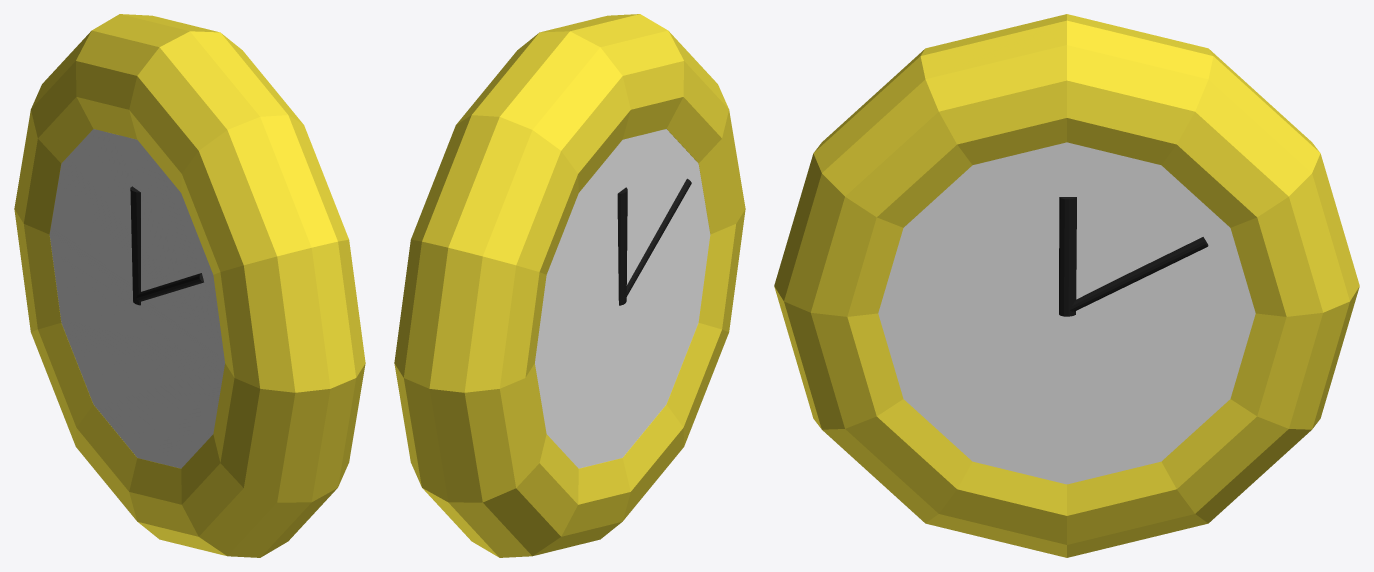
3 views of the same model, side by side, from view 1: azimuth 30°, elevation 25°; view 2: azimuth 150°, elevation 25°; view 3: azimuth 270°, elevation 25° (orthographic). The views are drawn at different scales.
Visible parts, largest first — view 1: mesh_1998778960, mesh_1614212973, mesh_465829486, mesh_1528558971; view 2: mesh_1998778960, mesh_1614212973, mesh_465829486, mesh_1528558971; view 3: mesh_1998778960, mesh_1614212973, mesh_1929831598, mesh_1571770864.
Part boxes in pixels (x1,y1,x2,y2): mesh_1998778960: [14, 14, 365, 557]; mesh_1614212973: [49, 129, 224, 468]; mesh_465829486: [130, 186, 140, 305]; mesh_1528558971: [136, 273, 203, 301]; mesh_1998778960: [394, 14, 745, 557]; mesh_1614212973: [535, 129, 710, 468]; mesh_465829486: [617, 187, 627, 305]; mesh_1528558971: [626, 178, 691, 296]; mesh_1998778960: [774, 14, 1359, 557]; mesh_1614212973: [878, 142, 1255, 484]; mesh_1929831598: [1059, 197, 1076, 316]; mesh_1571770864: [1070, 237, 1208, 311].
Bounding box in the file's own units: 31.5 × 126 × 126.
